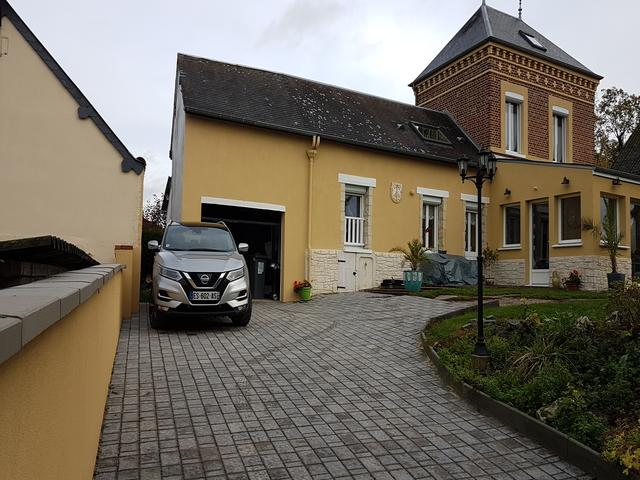Quashquai: (184, 287, 223, 306)
